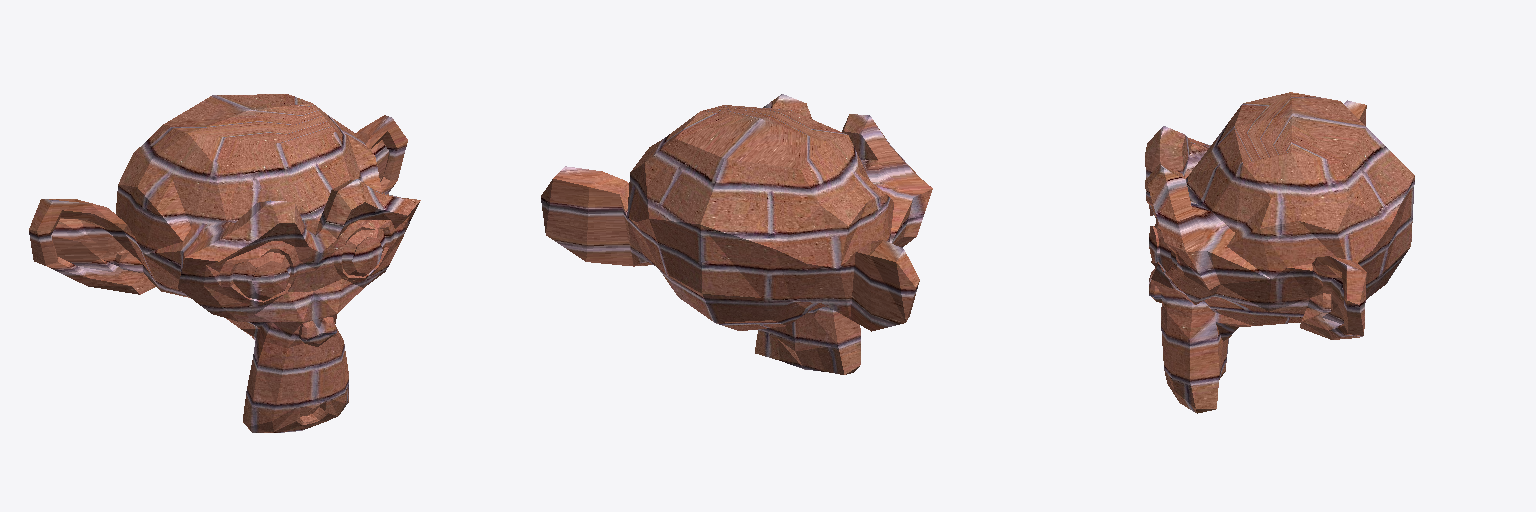
The picture shows the model from 3 angles: view 1: azimuth 30°, elevation 25°; view 2: azimuth 150°, elevation 25°; view 3: azimuth 270°, elevation 25°; orthographic projection.
Visible parts, largest first — view 1: monkey_mesh; view 2: monkey_mesh; view 3: monkey_mesh.
Part boxes in pixels (x1,y1,x2,y2): monkey_mesh: (29, 94, 420, 432); monkey_mesh: (541, 94, 932, 374); monkey_mesh: (1145, 92, 1414, 413).
Size of the model in its own units: 2.73 by 1.97 by 1.7.
1 materials, 1 textured.